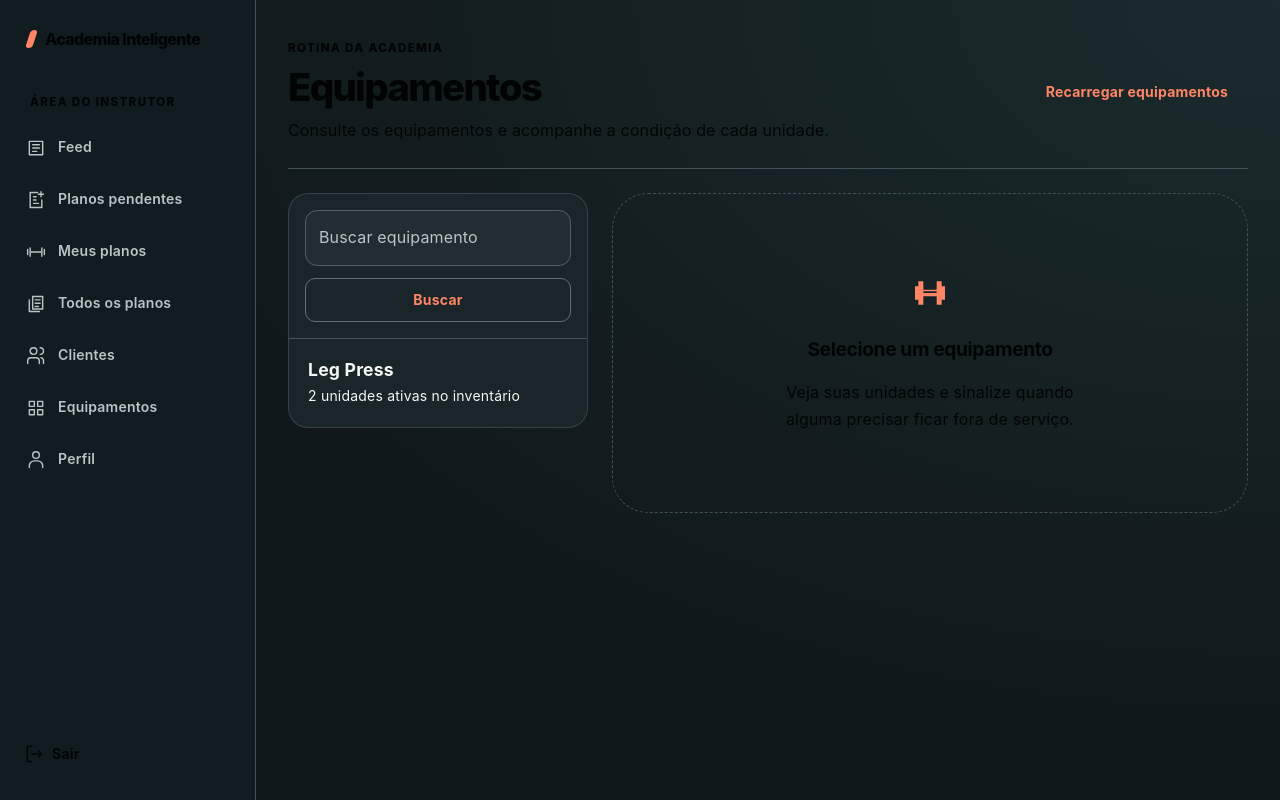
it: stale toggle requires reloading units
This screenshot has width=1280, height=800.
Click the button with aria-label "Ver unidades de Leg Press" at (351, 369), box left=289, top=339, right=587, bottom=427
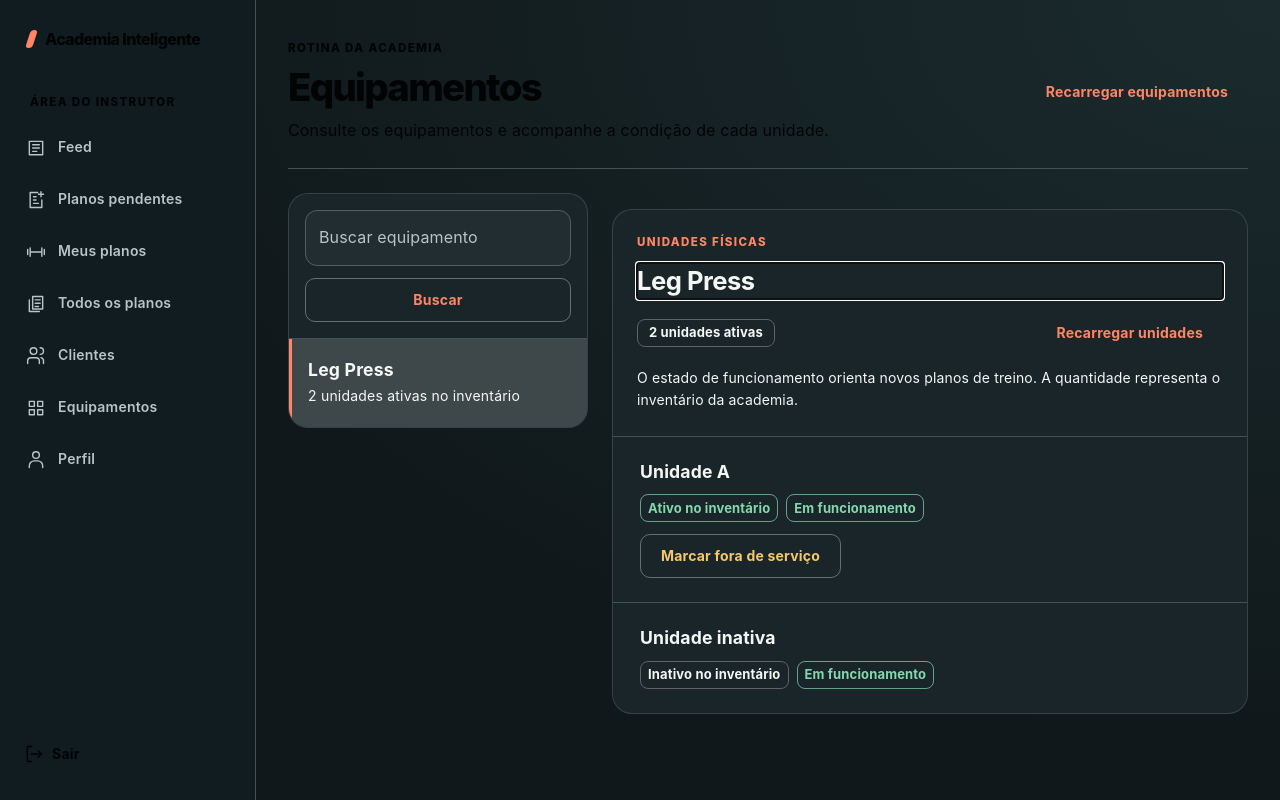
Click the button with aria-label "Marcar fora de serviço: Unidade A" at (741, 556), box left=640, top=534, right=841, bottom=578
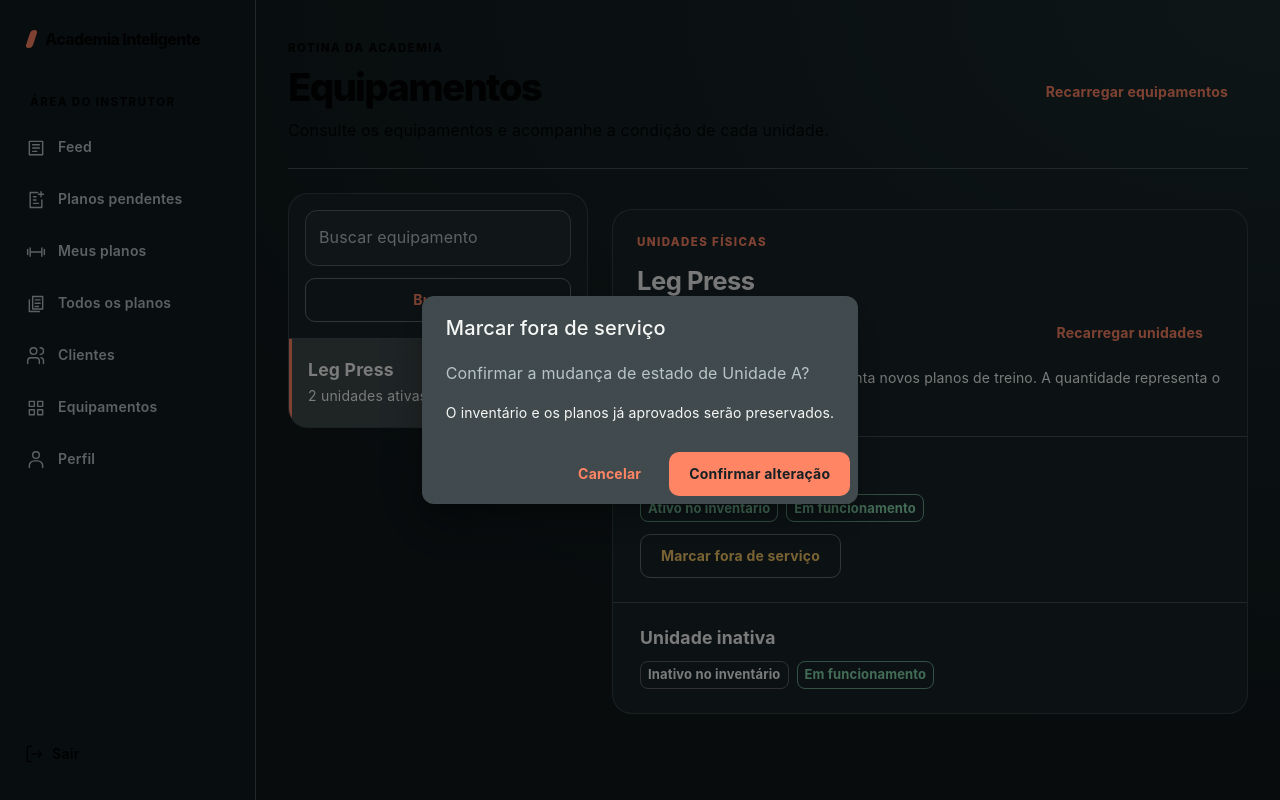
Click the button "Confirmar alteração" at (760, 474), box left=669, top=452, right=850, bottom=496
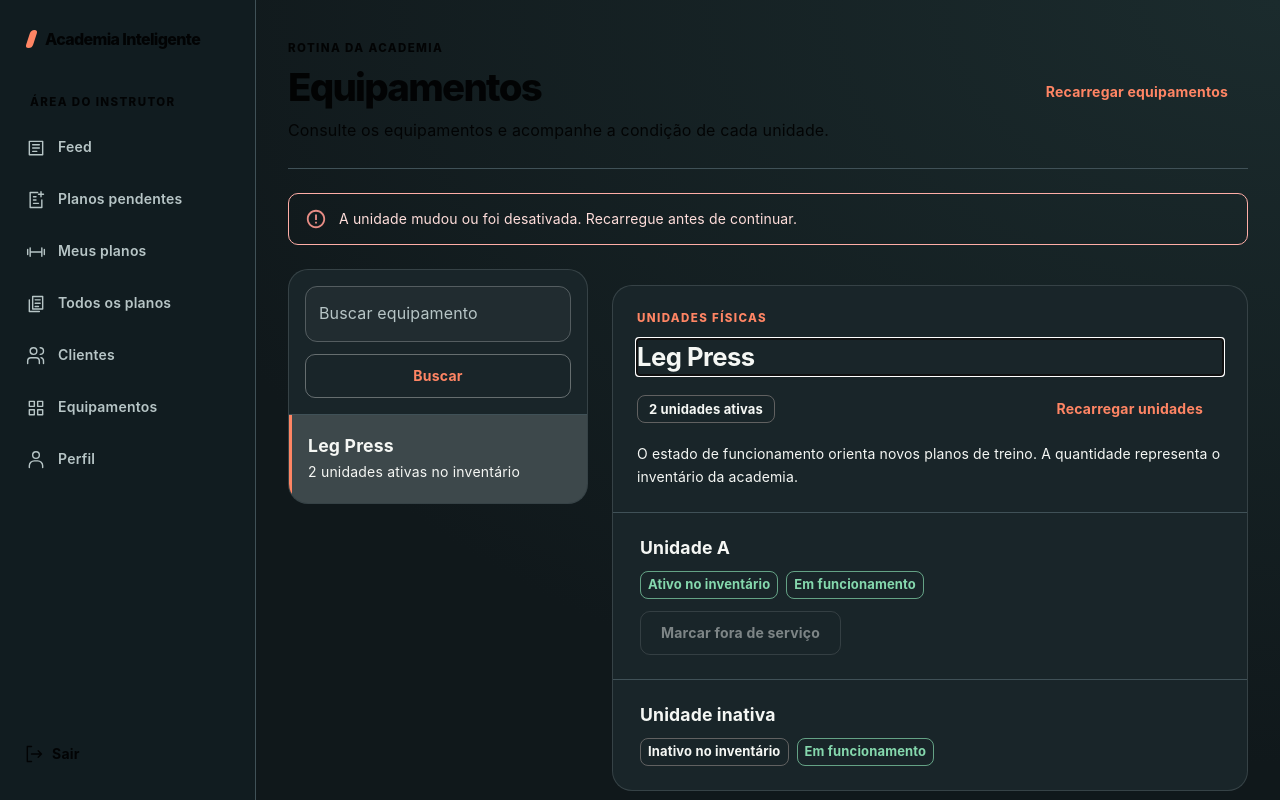
expect the text "A unidade mudou ou foi desativada. Recarregue antes de continuar." is shown: met, box left=339, top=210, right=797, bottom=227
expect the button with aria-label "Marcar fora de serviço: Unidade A" is disabled: met, box left=640, top=611, right=841, bottom=655
Click the button "Recarregar unidades" at (1130, 409), box left=1036, top=387, right=1223, bottom=431
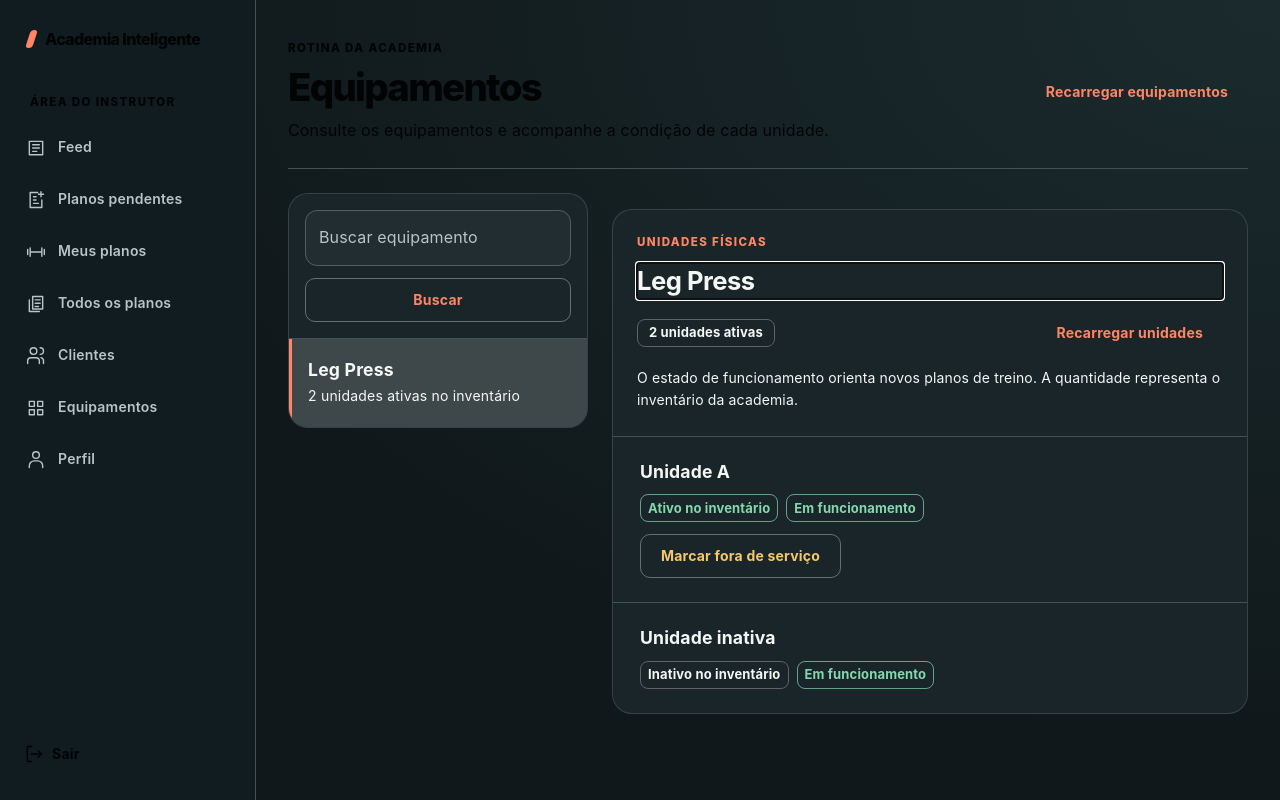
expect the button with aria-label "Marcar fora de serviço: Unidade A" is enabled: met, box left=640, top=534, right=841, bottom=578
